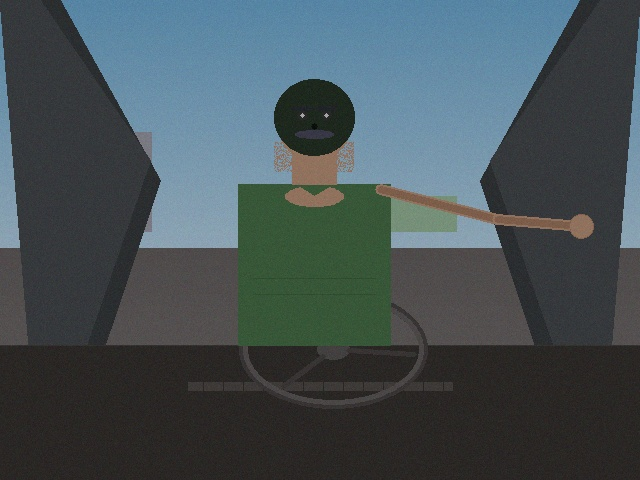hands_off_wheel: (558, 207, 604, 244)
